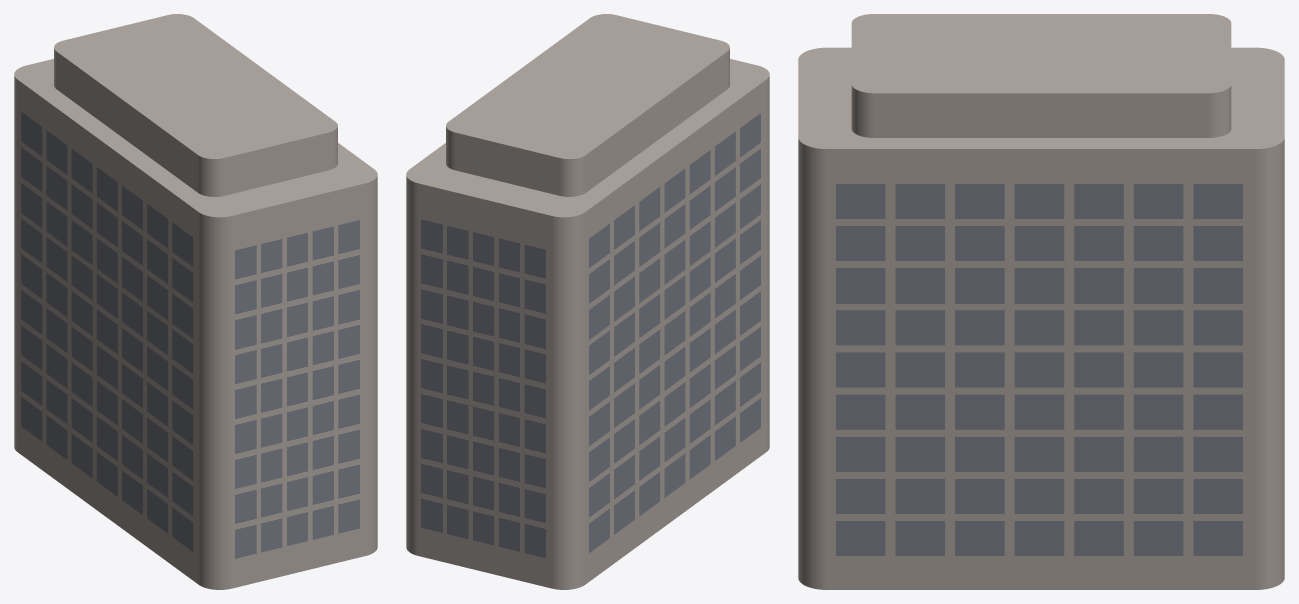
Rendered from Building3.fbx.
3 renders of one model, left to right at view 1: azimuth 30°, elevation 25°; view 2: azimuth 150°, elevation 25°; view 3: azimuth 270°, elevation 25°, orthographic. The views are drawn at different scales.
Visible parts, largest first — view 1: b3.001, b3.002; view 2: b3.001, b3.002; view 3: b3.001, b3.002.
Part boxes in pixels (x1,y1,x2,y2): b3.001: (14, 59, 377, 589); b3.002: (54, 14, 337, 196); b3.001: (406, 59, 769, 589); b3.002: (446, 14, 729, 196); b3.001: (798, 47, 1284, 589); b3.002: (851, 14, 1231, 137).
Bounding box in the file's own units: 10 × 22.33 × 20.27.
